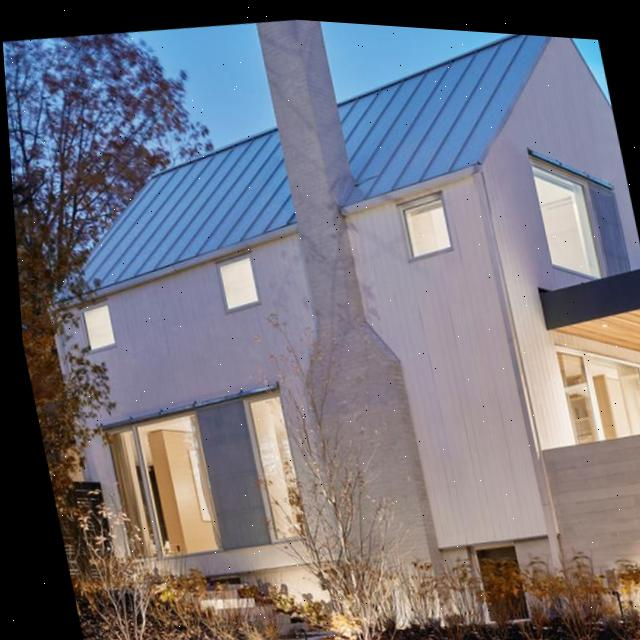building: (11, 1, 640, 640)
